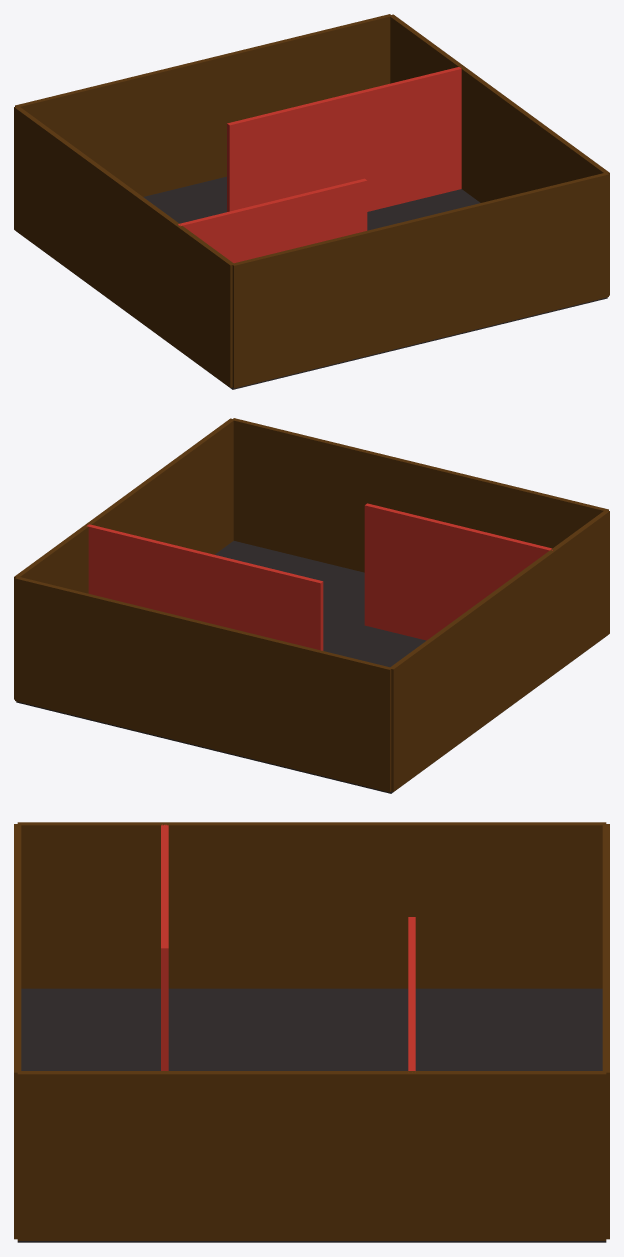
File: Room.glb
3 renders of one model, top to bottom at view 1: azimuth 30°, elevation 25°; view 2: azimuth 150°, elevation 25°; view 3: azimuth 270°, elevation 25°, orthographic. The views are drawn at different scales.
Parts seen in each view (by area): view 1: Cube.002, Cube.003, Cube.001, Cube.006, Cube.004, Cube.005, Cube; view 2: Cube.003, Cube.001, Cube.002, Cube.006, Cube.005, Cube.004, Cube; view 3: Cube.004, Cube.001, Cube, Cube.003, Cube.002, Cube.005, Cube.006.
Part boxes in pixels (box(x1,y1,x2,y2)): Cube.002: box(232, 173, 608, 388); Cube.003: box(15, 14, 391, 196); Cube.001: box(14, 106, 234, 387); Cube.006: box(227, 66, 461, 211); Cube.004: box(390, 14, 609, 295); Cube.005: box(178, 178, 367, 263); Cube: box(16, 176, 607, 389); Cube.003: box(15, 576, 391, 792); Cube.001: box(389, 510, 609, 791); Cube.002: box(232, 418, 608, 572); Cube.006: box(86, 524, 323, 650); Cube.005: box(364, 503, 552, 640); Cube.004: box(14, 418, 233, 699); Cube: box(16, 541, 607, 793); Cube.004: box(17, 1071, 606, 1240); Cube.001: box(17, 822, 606, 988); Cube: box(17, 988, 606, 1242); Cube.003: box(602, 824, 609, 1239); Cube.002: box(14, 824, 21, 1239); Cube.005: box(161, 824, 168, 1070); Cube.006: box(408, 917, 415, 1070).
Size of the model in its own units: 16.2 by 5.1 by 16.2.
3 materials, 3 textured.
